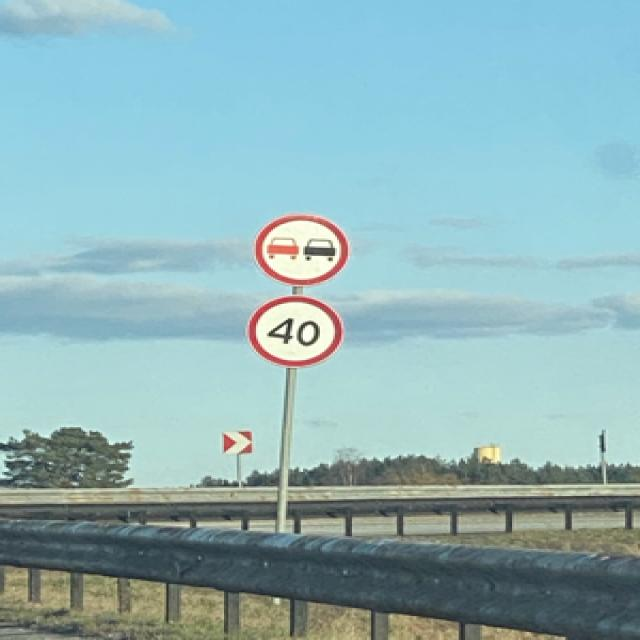speedlimit: (243, 294, 339, 366)
